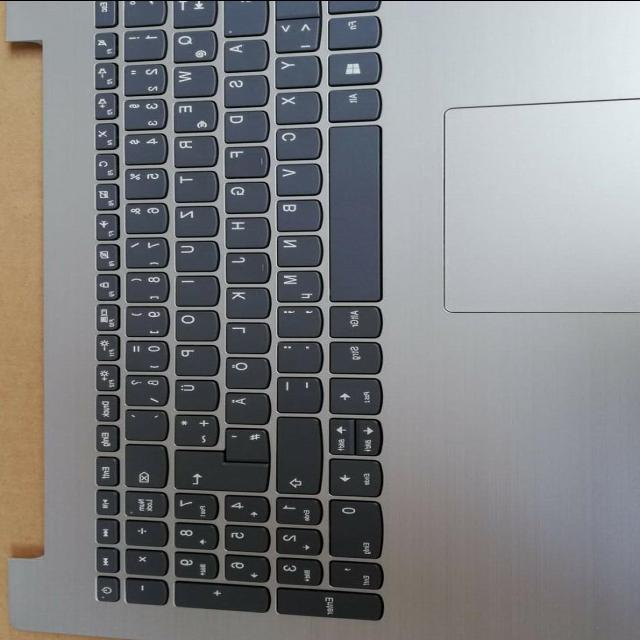0: (120, 337, 166, 369)
1: (119, 27, 163, 59)
2: (119, 61, 163, 94)
3: (120, 96, 164, 128)
4: (120, 131, 164, 163)
5: (121, 165, 165, 197)
6: (121, 200, 165, 231)
7: (120, 234, 166, 266)
8: (122, 268, 166, 300)
9: (121, 303, 167, 335)
a: (219, 37, 265, 69)
accent: (121, 407, 165, 439)
ae: (220, 390, 268, 423)
alt-left: (324, 85, 378, 119)
altgr-right: (325, 303, 379, 336)
b: (272, 196, 320, 230)
c: (271, 124, 319, 158)
caret: (118, 0, 162, 23)
comma: (273, 303, 321, 335)
d: (219, 108, 267, 140)
del: (119, 442, 165, 486)
e: (169, 98, 215, 130)
enter: (169, 448, 268, 489)
f: (220, 143, 266, 175)
g: (221, 179, 267, 211)
h: (221, 214, 267, 246)
hash: (220, 426, 266, 458)
i: (171, 272, 217, 304)
j: (221, 250, 267, 281)
k: (221, 285, 267, 317)
keyboard: (79, 0, 394, 626)
l: (221, 319, 267, 351)
less: (269, 16, 317, 51)
m: (272, 268, 320, 300)
minus: (273, 373, 319, 411)
n: (273, 232, 319, 264)
o: (171, 307, 217, 339)
oe: (221, 354, 267, 386)
p: (171, 342, 217, 374)
plus: (170, 412, 216, 444)
point: (273, 338, 321, 372)
q: (168, 27, 214, 60)
r: (169, 133, 215, 165)
s: (218, 72, 266, 104)
shift-left: (271, 0, 317, 15)
shift-lock: (219, 0, 265, 34)
shift-right: (270, 414, 319, 492)
space: (324, 123, 379, 299)
ss: (120, 372, 166, 404)
strg-left: (322, 0, 378, 11)
strg-right: (325, 338, 379, 372)
t: (169, 168, 215, 200)
tab: (168, 0, 214, 24)
u: (171, 238, 217, 270)
ue: (171, 377, 217, 409)
v: (271, 161, 319, 193)
w: (168, 63, 214, 95)
x: (271, 88, 319, 122)
y: (270, 53, 318, 86)
z: (170, 203, 216, 235)
